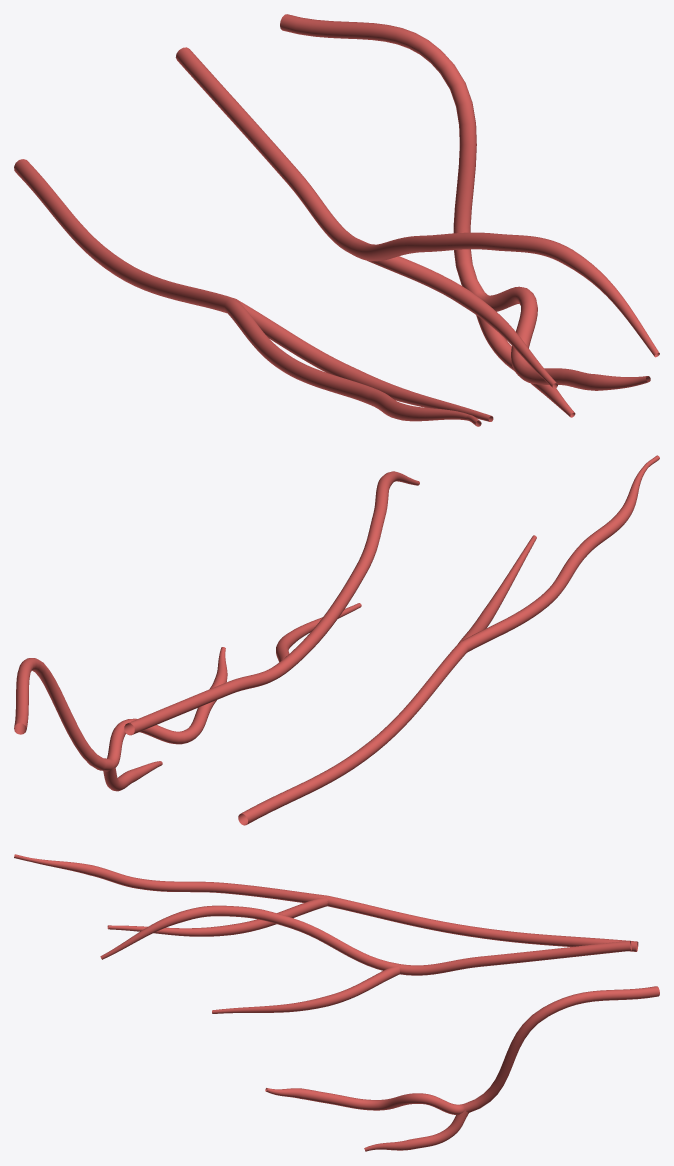
The picture shows the model from 3 angles, top to bottom: view 1: azimuth 30°, elevation 25°; view 2: azimuth 150°, elevation 25°; view 3: azimuth 270°, elevation 25°; orthographic projection. The views are drawn at different scales.
Visible parts, largest first — view 1: 右侧近侧外侧豆纹动脉; view 2: 右侧近侧外侧豆纹动脉; view 3: 右侧近侧外侧豆纹动脉.
Part boxes in pixels (left/top/right/bottom): 右侧近侧外侧豆纹动脉: left=14, top=14, right=659, bottom=426; 右侧近侧外侧豆纹动脉: left=14, top=455, right=659, bottom=825; 右侧近侧外侧豆纹动脉: left=14, top=854, right=659, bottom=1151.
Bounding box in the file's own units: 0.00864 × 0.006 × 0.018.
